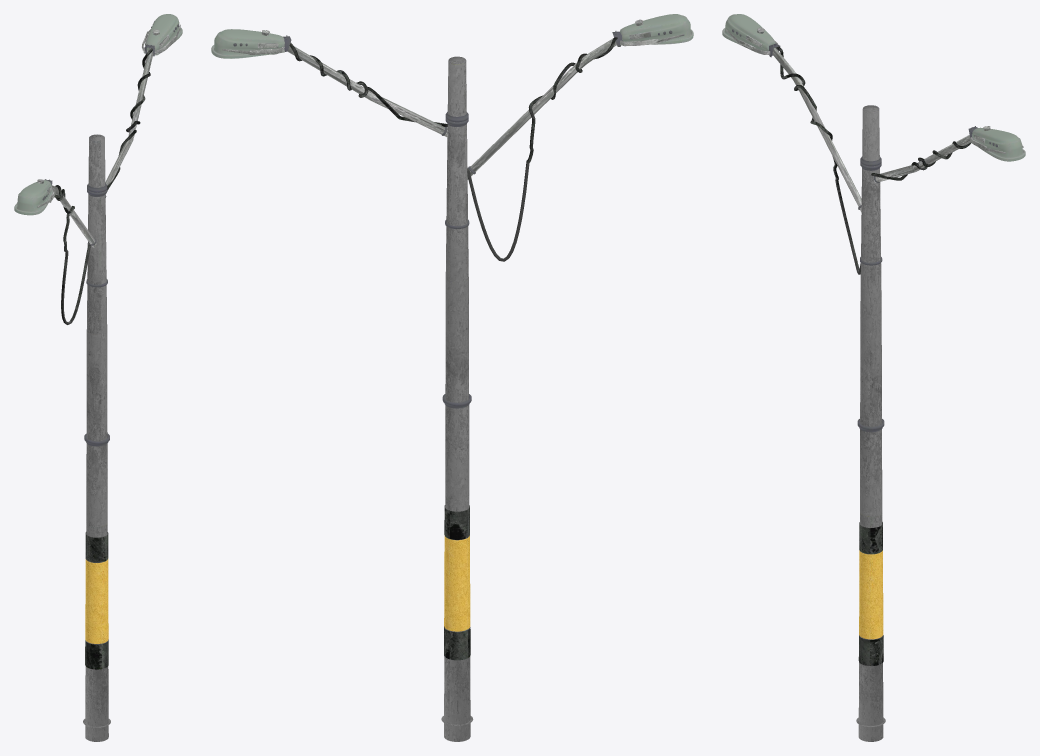
File: Medellin Street Lamp Optimized.glb
3 views of the same model, side by side, from view 1: azimuth 30°, elevation 25°; view 2: azimuth 150°, elevation 25°; view 3: azimuth 270°, elevation 25° (orthographic). The views are drawn at different scales.
Visible parts, largest first — view 1: Object_2; view 2: Object_2; view 3: Object_2.
Boxes of the visible parts, box(x1,y1,x2,y2) form: Object_2: box(14, 14, 182, 741); Object_2: box(211, 14, 693, 741); Object_2: box(722, 14, 1025, 741).
Bounding box in the file's own units: 2.07 × 4.29 × 1.76.
Materials: 1 (1 with a texture image).
